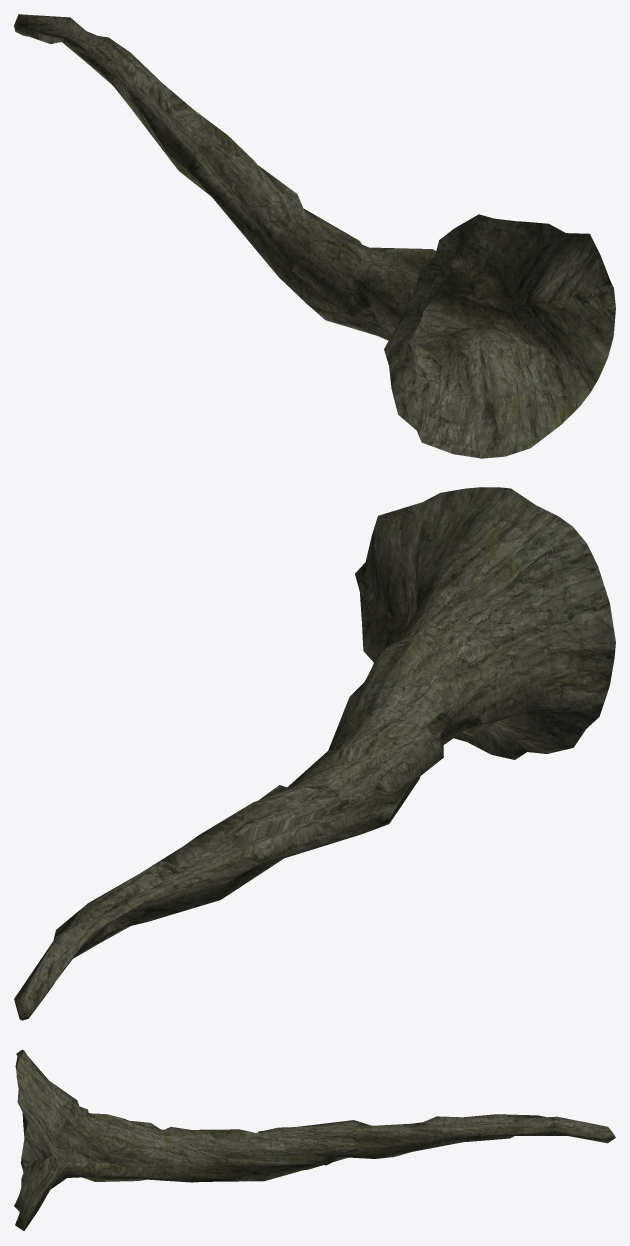
Rendered from TI_Old_Tree_01_LOD_01.fbx.
3 renders of one model, top to bottom at view 1: azimuth 30°, elevation 25°; view 2: azimuth 150°, elevation 25°; view 3: azimuth 270°, elevation 25°, orthographic. The views are drawn at different scales.
Visible parts, largest first — view 1: TI_Old_Tree_01_LOD_01; view 2: TI_Old_Tree_01_LOD_01; view 3: TI_Old_Tree_01_LOD_01.
Part boxes in pixels (bbox=[...]): TI_Old_Tree_01_LOD_01: bbox=[14, 14, 615, 458]; TI_Old_Tree_01_LOD_01: bbox=[14, 487, 615, 1020]; TI_Old_Tree_01_LOD_01: bbox=[14, 1049, 615, 1230].
Size of the model in its own units: 3.22 by 3.26 by 11.05.
